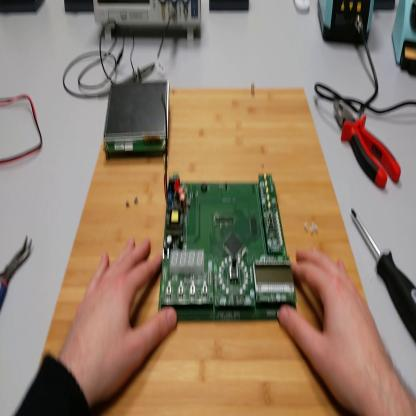hand: (64, 234, 176, 399), (279, 247, 389, 407)
low voltage board: (159, 100, 298, 328)
oscilloscope: (95, 2, 203, 44)
oscilloscope probe tip: (97, 59, 154, 101)
pliers: (335, 98, 402, 191), (1, 236, 33, 311)
screwdriver-: (353, 209, 416, 339)
socket: (2, 1, 46, 15), (64, 2, 94, 15), (375, 2, 397, 12)
welder base: (393, 1, 416, 78)
welder station: (320, 1, 376, 48)
working area: (42, 90, 369, 414)
